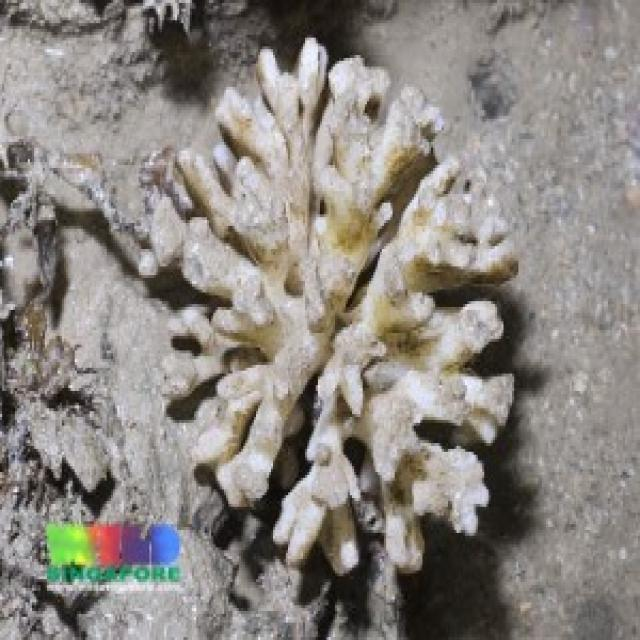Bleached Coral: (122, 48, 552, 612)
